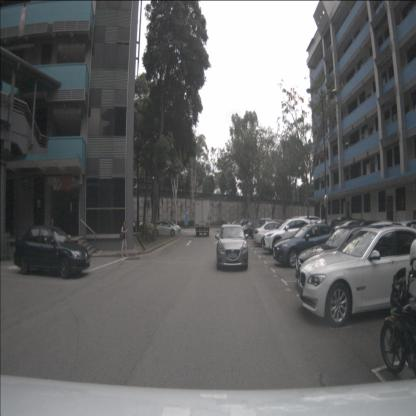cone: (50, 219, 54, 234)
